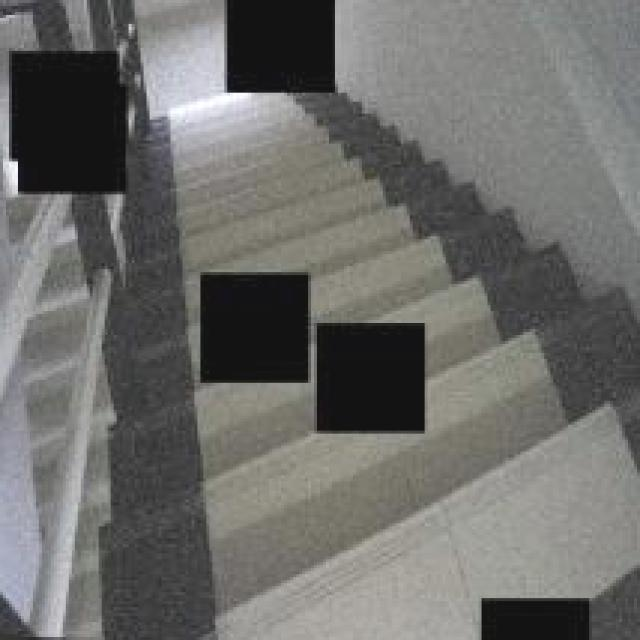downstair: (180, 136, 390, 258)
